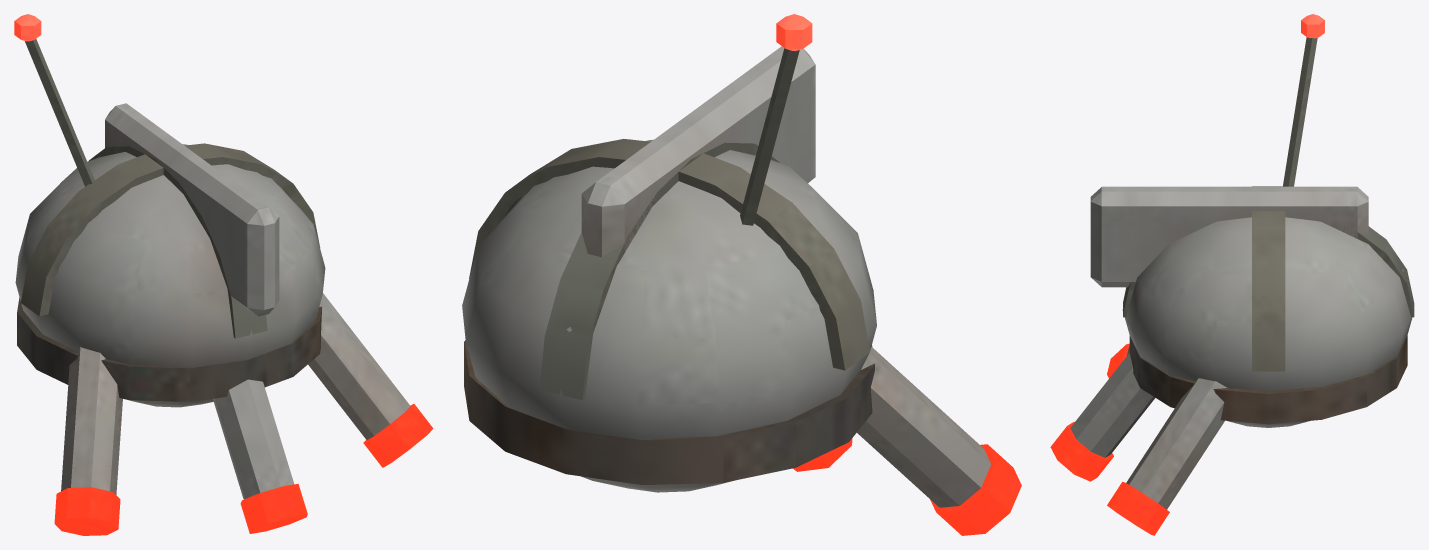
File: logistic-robot.glb
3 renders of one model, left to right at view 1: azimuth 30°, elevation 25°; view 2: azimuth 150°, elevation 25°; view 3: azimuth 270°, elevation 25°, orthographic. The views are drawn at different scales.
Parts seen in each view (by area): view 1: body, anim_thrusters, anim_lamp_cargo; view 2: body, anim_thrusters, anim_lamp_cargo; view 3: body, anim_thrusters, anim_lamp_cargo.
Boxes of the visible parts, x1=… form: body: x1=15, y1=39, x2=325, y2=407; anim_thrusters: x1=54, y1=293, x2=433, y2=535; anim_lamp_cargo: x1=14, y1=14, x2=41, y2=41; body: x1=462, y1=46, x2=876, y2=492; anim_thrusters: x1=793, y1=347, x2=1021, y2=535; anim_lamp_cargo: x1=776, y1=14, x2=812, y2=50; body: x1=1090, y1=37, x2=1414, y2=427; anim_thrusters: x1=1050, y1=343, x2=1227, y2=535; anim_lamp_cargo: x1=1301, y1=14, x2=1324, y2=38.
Size of the model in its own units: 0.8636 by 1.02 by 0.8185.
4 materials, 4 textured.
